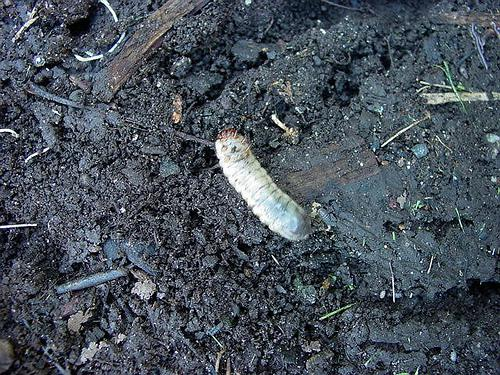grub: (208, 129, 321, 244)
